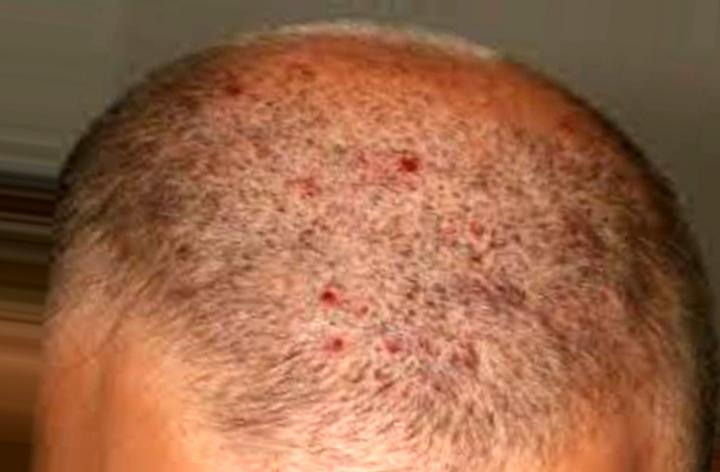Folliculitis: (286, 124, 546, 403)
